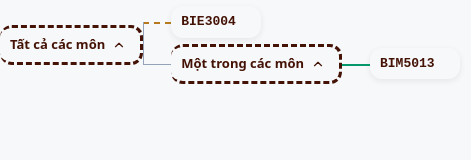
Test: RelationshipBranch › preserves AND/OR conditions and lets the user collapse a branch
Expected: the text "Tất cả các môn" is shown, [10, 35, 105, 54]
Expected: the text "Một trong các môn" is shown, [181, 54, 304, 73]
Click the button named "Thu gọn nhánh Tất cả các môn": (119, 45) [108, 34, 130, 56]
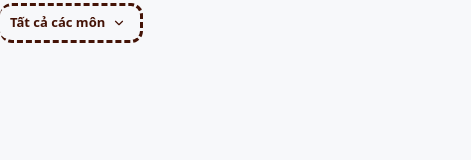
Now the link "BIE3004" is gone
Click the button named "Mở rộng nhánh Tất cả các môn": (119, 23) [108, 12, 130, 34]
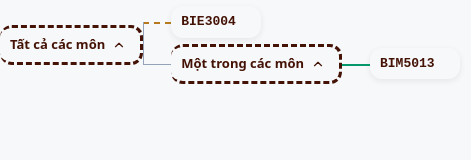
Now the link "BIM5013" is shown, box [380, 54, 435, 73]
